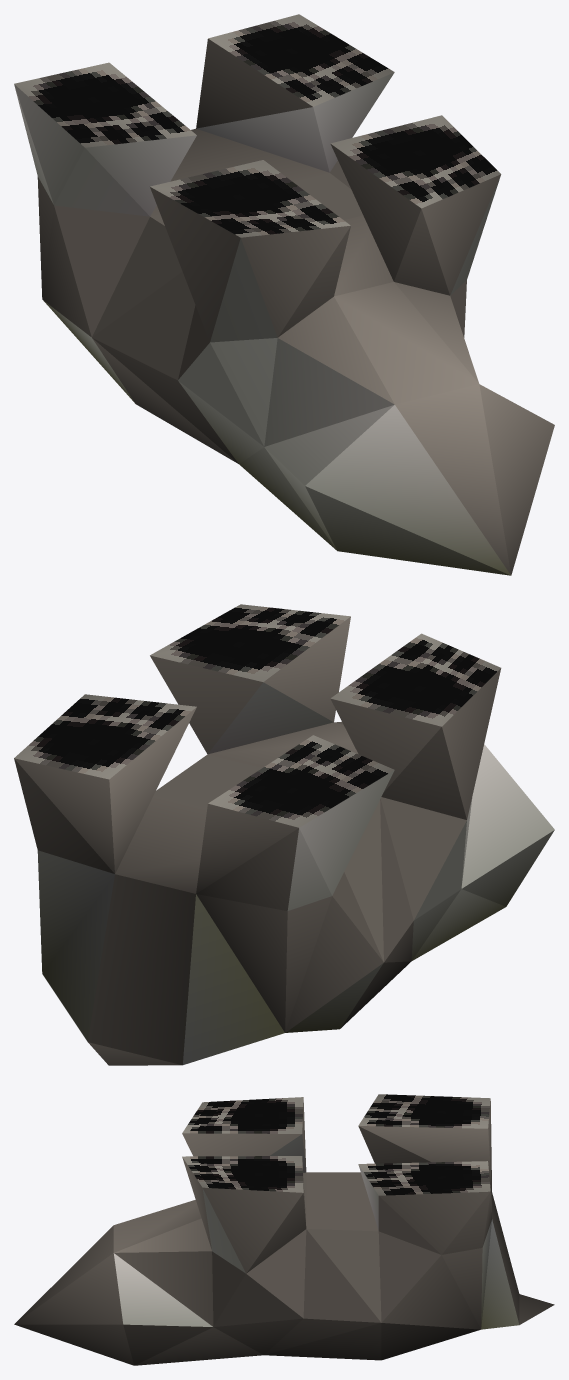
3 renders of one model, top to bottom at view 1: azimuth 30°, elevation 25°; view 2: azimuth 150°, elevation 25°; view 3: azimuth 270°, elevation 25°, orthographic. The views are drawn at different scales.
Parts seen in each view (by area): view 1: part0; view 2: part0; view 3: part0.
Part boxes in pixels (x1,y1,x2,y2): part0: (14, 14, 554, 575); part0: (14, 604, 554, 1065); part0: (14, 1094, 554, 1365).
Size of the model in its own units: 0.1719 by 0.1523 by 0.3867.
3 materials, 2 textured.
